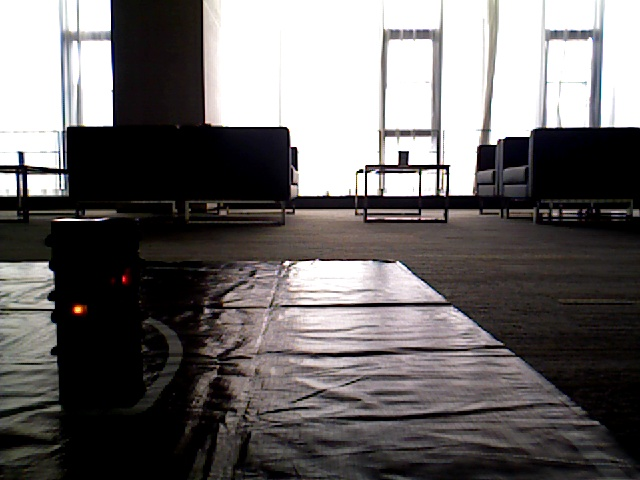yellow: (51, 221, 116, 381)
